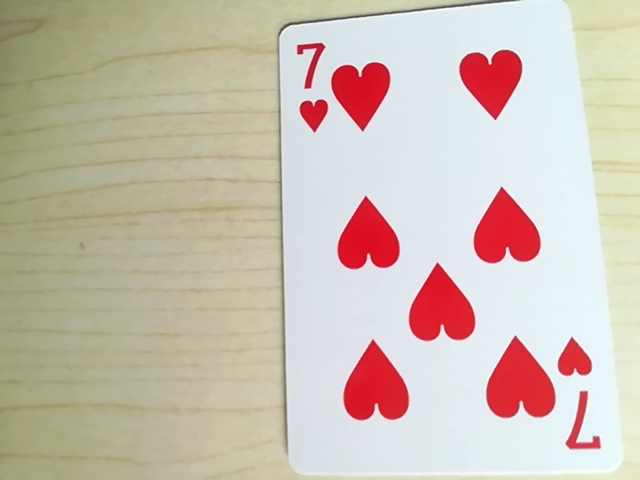hx 7: (563, 400, 603, 461), (288, 31, 329, 83)
